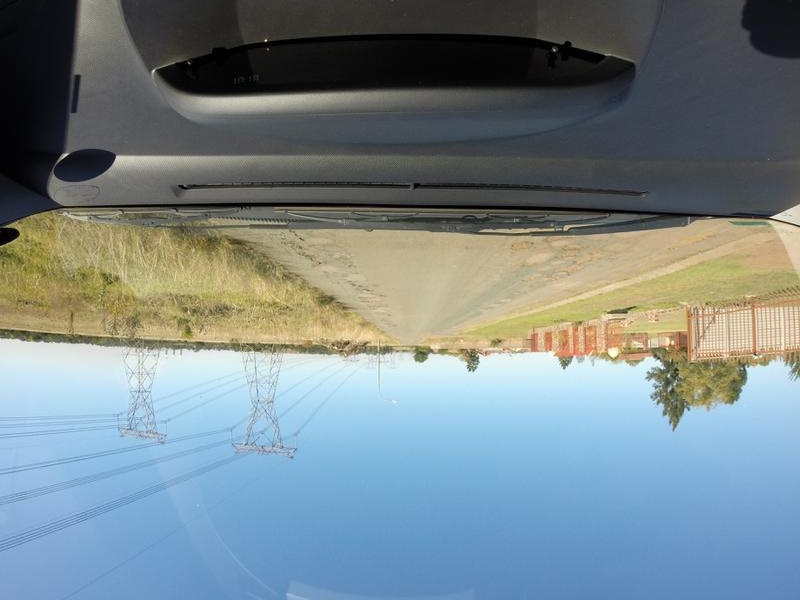pothole: (287, 242, 318, 268), (678, 232, 712, 249), (525, 253, 554, 267), (561, 266, 582, 280), (511, 241, 537, 249), (520, 275, 540, 285), (295, 230, 313, 238), (567, 244, 583, 252), (364, 287, 378, 295), (602, 247, 617, 254), (360, 299, 378, 303), (345, 262, 357, 267)
